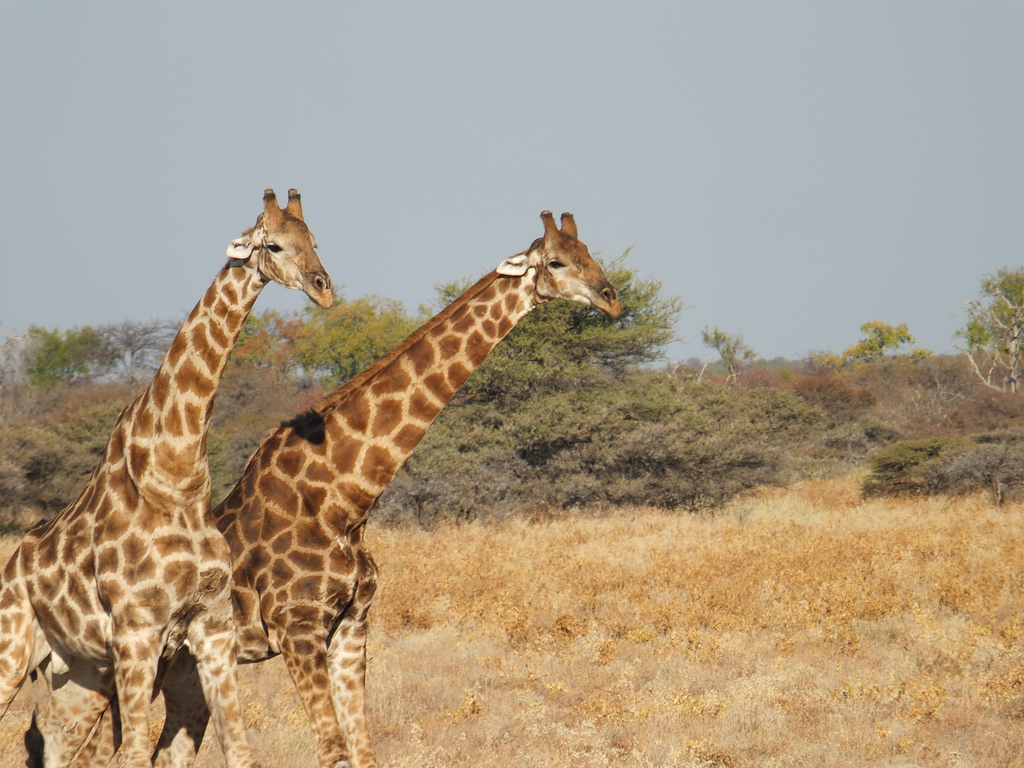giraffe: (234, 177, 647, 732), (25, 191, 364, 750)
